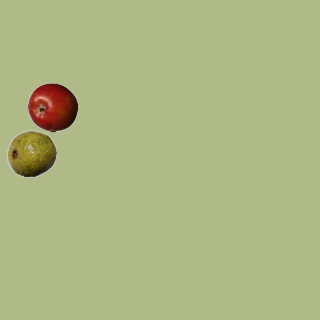Apple Braeburn: (27, 82, 77, 132)
Guava: (6, 128, 56, 178)
